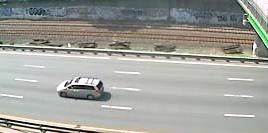car: (54, 76, 110, 102)
